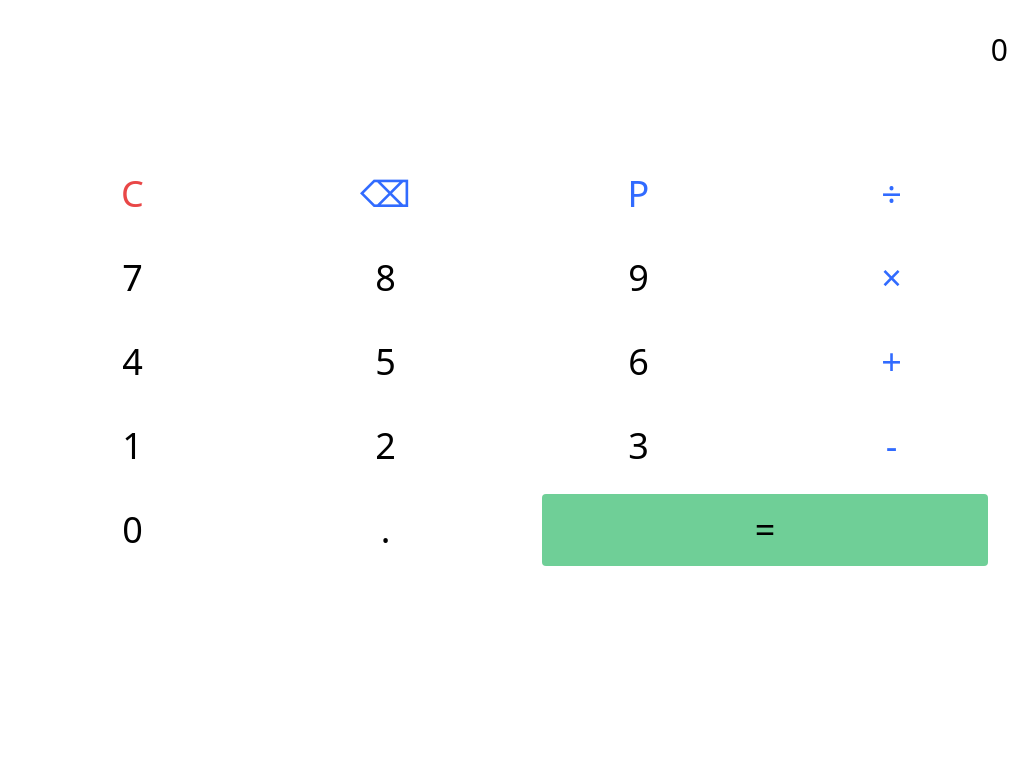
Test case: MathCalc Component › displays calculated subtraction result
Click the button with test id "5". click: (386, 362)
box: x1=265 y1=326 x2=506 y2=398
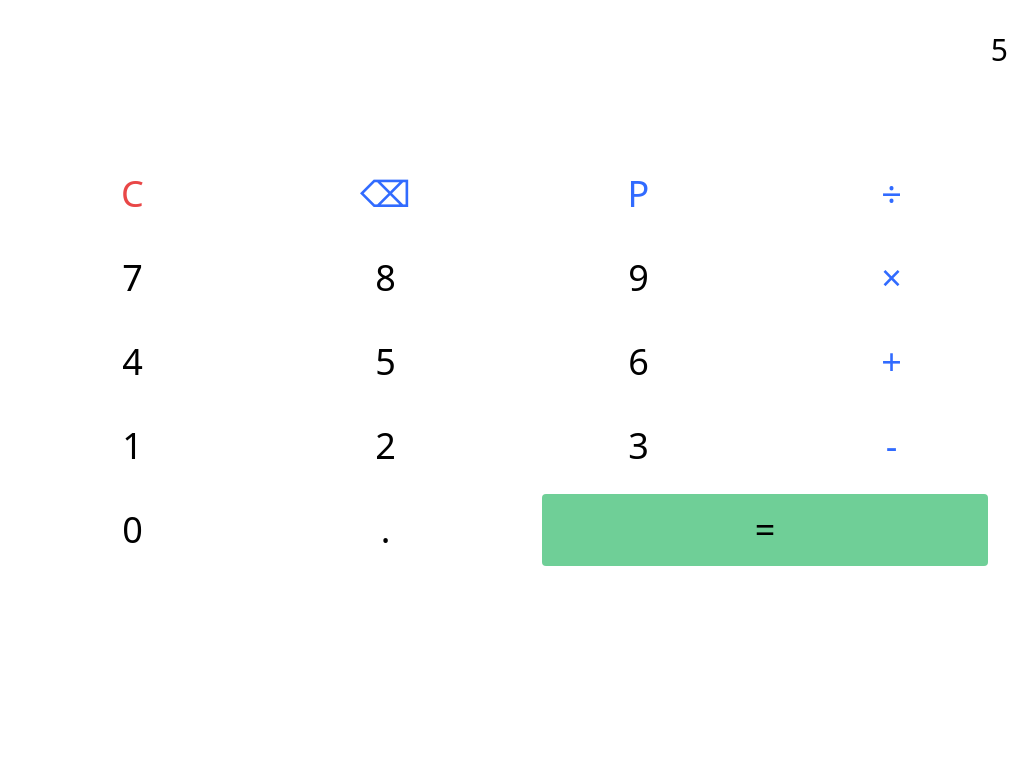
Click the button with test id "-". click: (892, 446)
box: x1=771 y1=410 x2=1012 y2=482
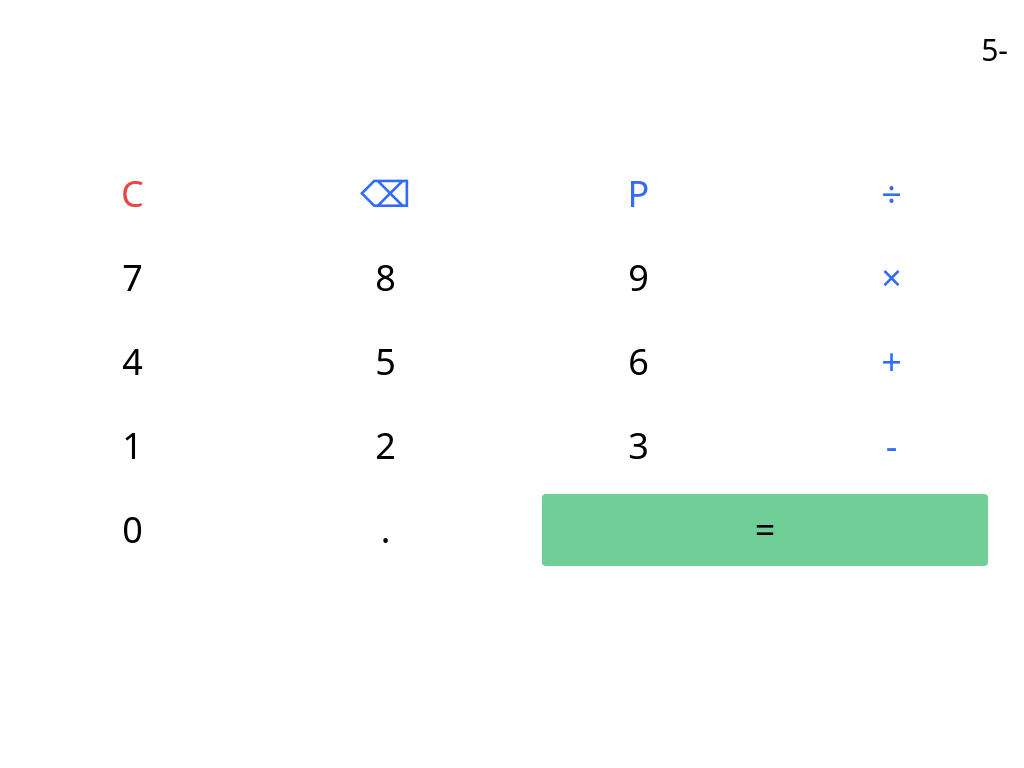
Click the button with test id "2". click: (386, 446)
box: x1=265 y1=410 x2=506 y2=482
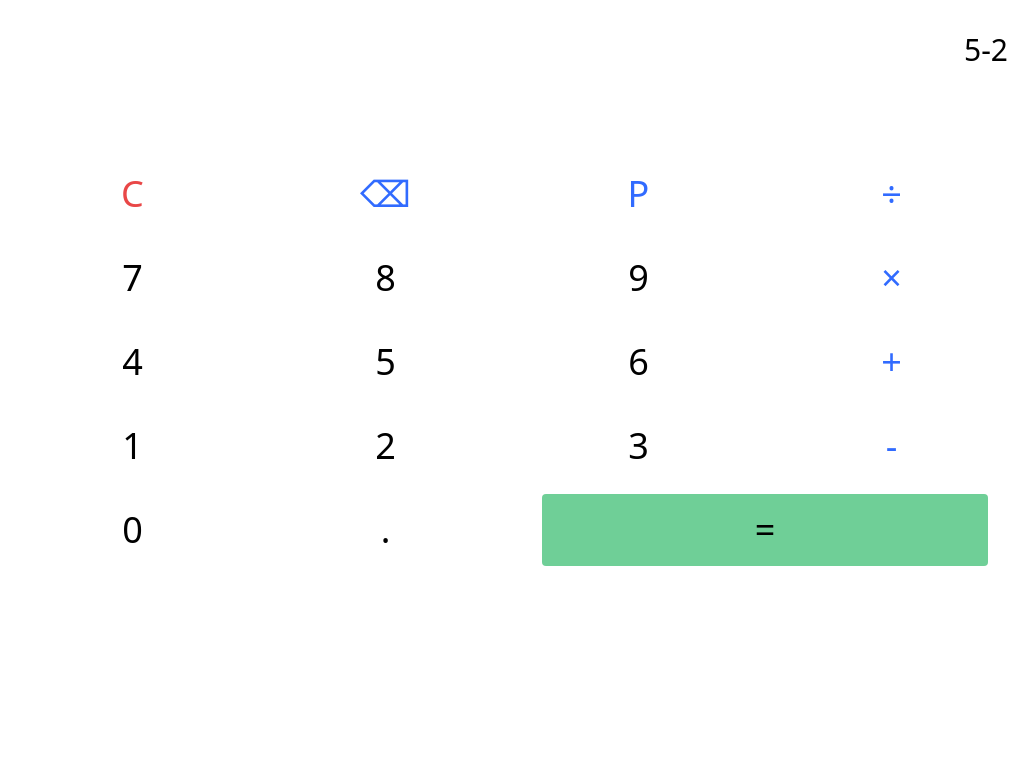
Click the button with test id "equals". click: (765, 530)
box: x1=542 y1=494 x2=988 y2=566
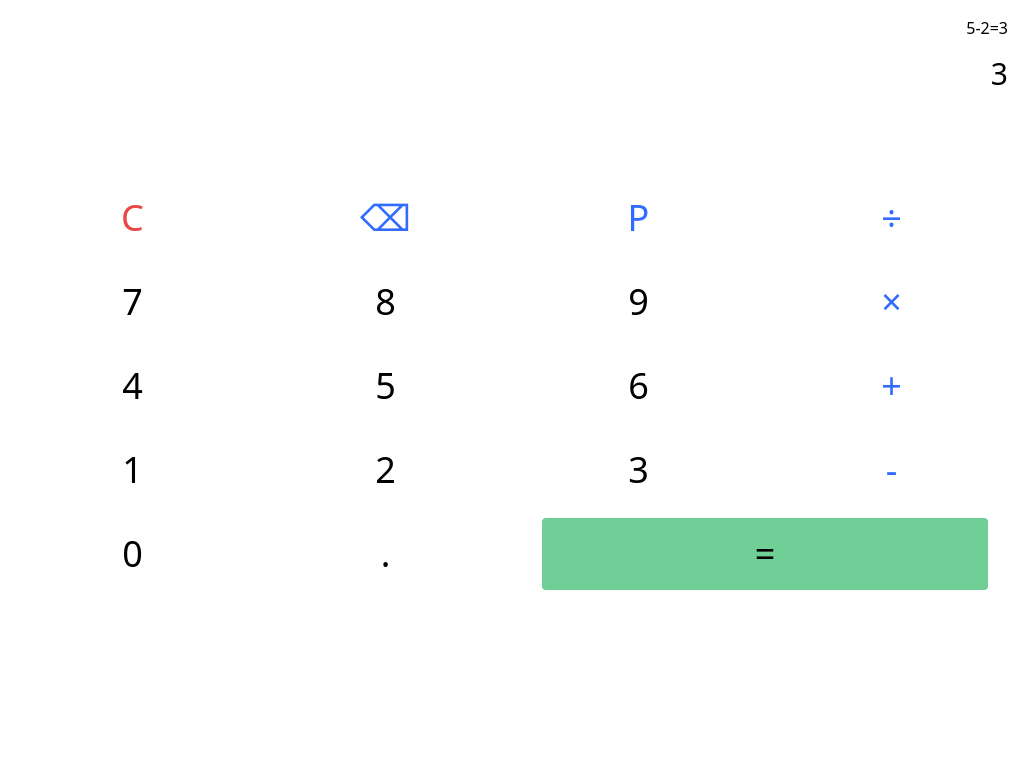
Check: the text with test id "result" reads "3", box x1=991 y1=53 x2=1008 y2=94
